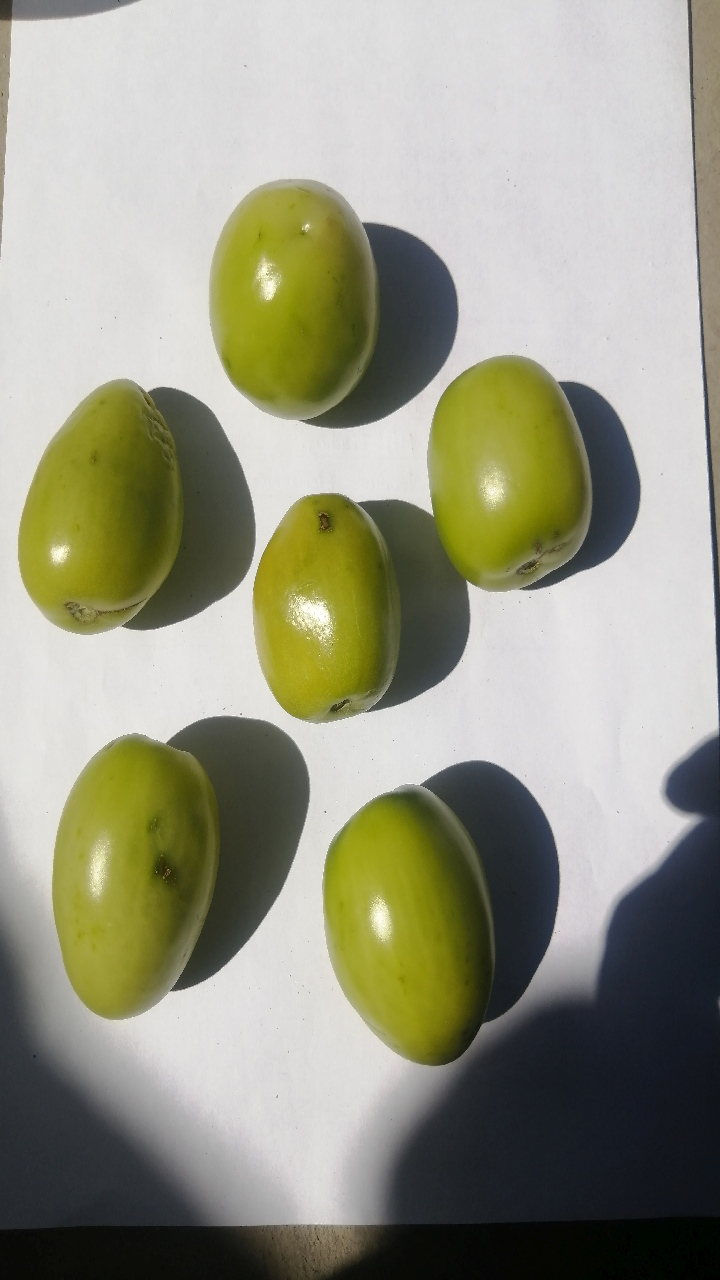tomateVerde: (15, 715, 243, 1046), (298, 772, 531, 1082), (226, 483, 434, 751), (189, 162, 384, 442), (403, 342, 614, 600), (12, 365, 192, 659)
